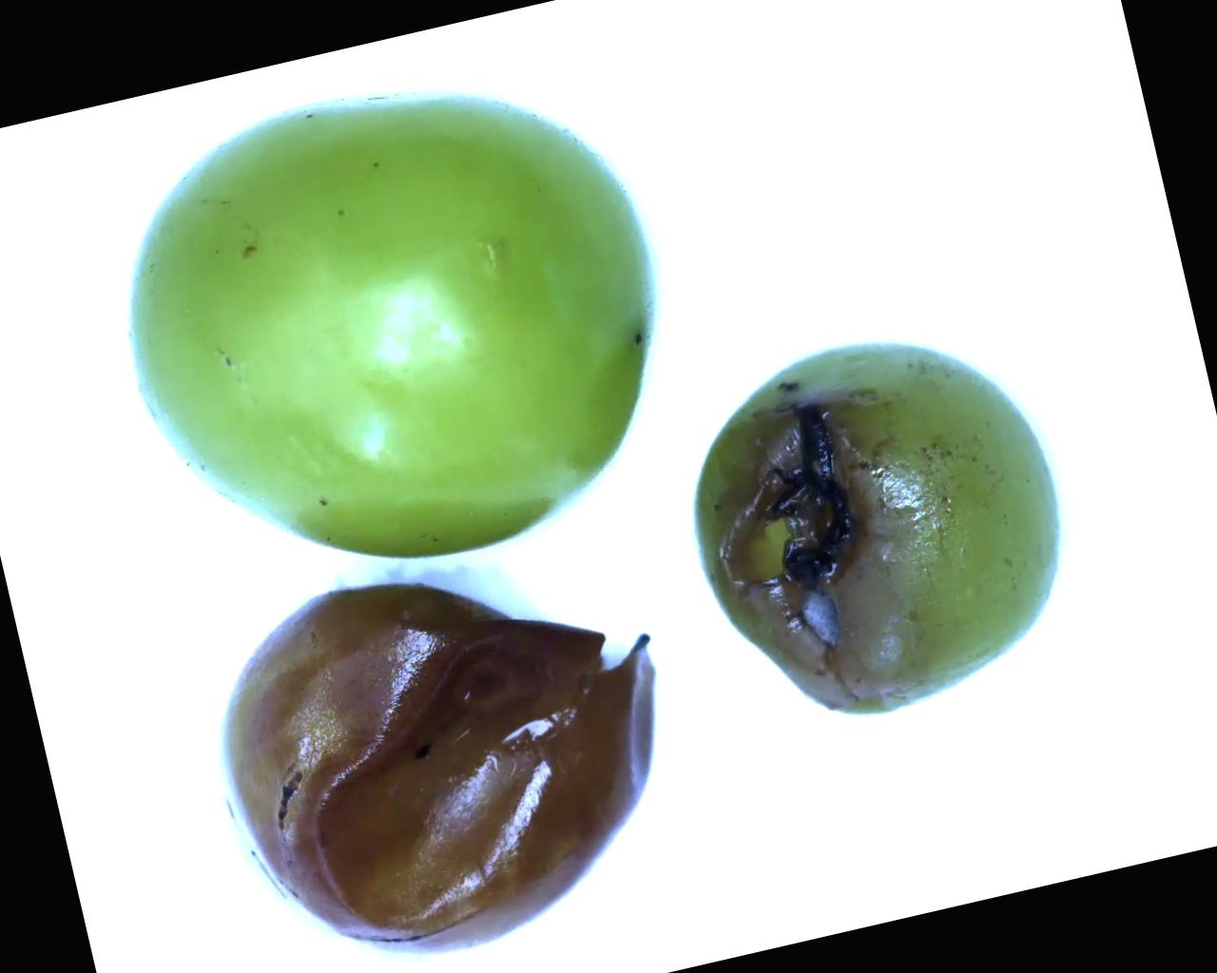Grape Rotten: (182, 518, 711, 973), (657, 301, 1097, 747)
Grape Unripe: (75, 30, 695, 594)
